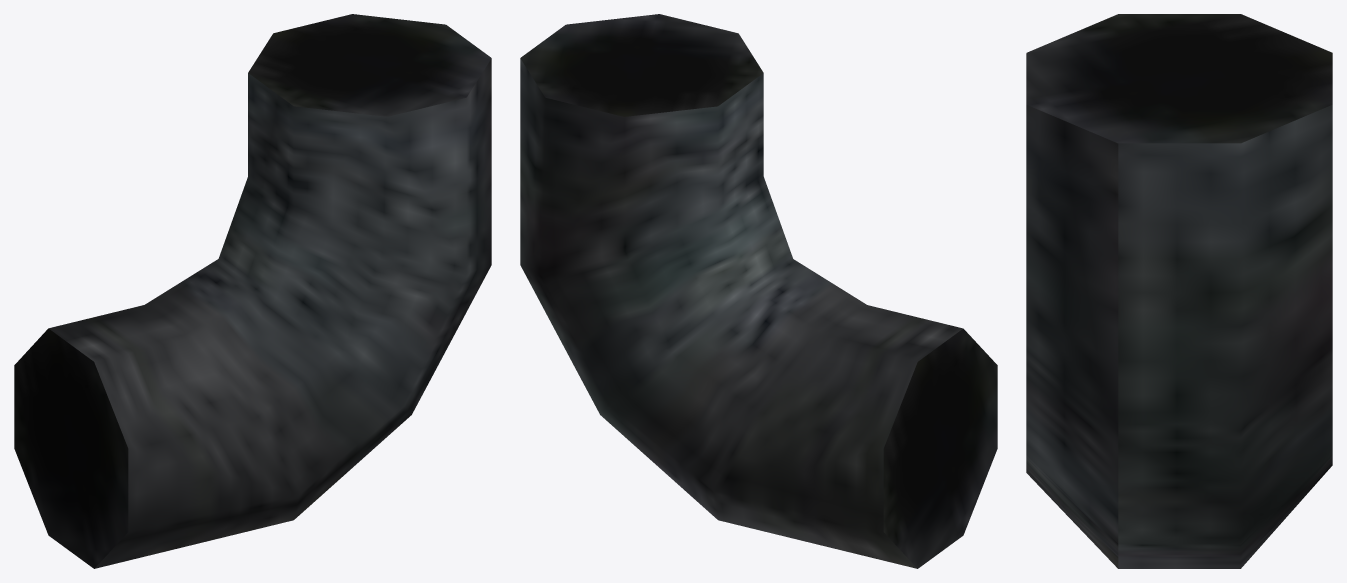
The model's file is bunker_pipe_elbow.glb.
3 renders of one model, left to right at view 1: azimuth 30°, elevation 25°; view 2: azimuth 150°, elevation 25°; view 3: azimuth 270°, elevation 25°, orthographic. The views are drawn at different scales.
Bounding box in the file's own units: 2.94 × 2.93 × 1.46.
1 material, 1 textured.
